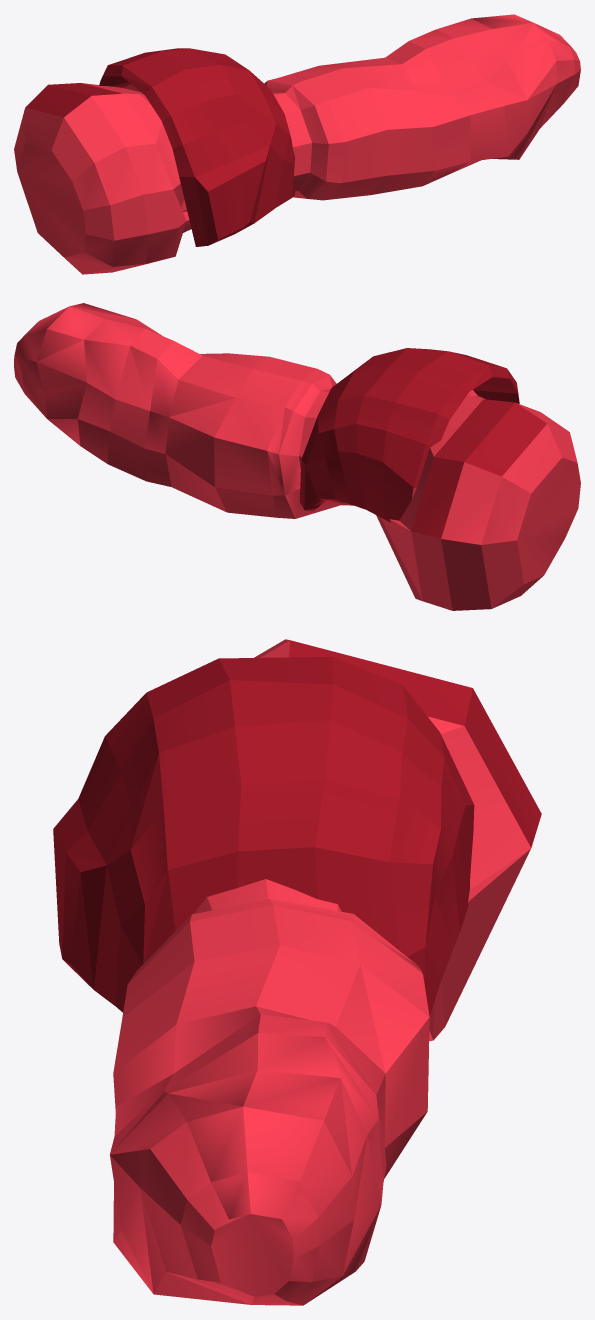
File: right_upper_arm.fbx
3 renders of one model, top to bottom at view 1: azimuth 30°, elevation 25°; view 2: azimuth 150°, elevation 25°; view 3: azimuth 270°, elevation 25°, orthographic. The views are drawn at different scales.
Visible parts, largest first — view 1: right_upper_arm; view 2: right_upper_arm; view 3: right_upper_arm.
Part boxes in pixels (x1,y1,x2,y2): right_upper_arm: (14, 14, 580, 274); right_upper_arm: (14, 303, 580, 610); right_upper_arm: (53, 639, 541, 1305).
Size of the model in its own units: 0.4844 by 0.1838 by 0.2003.
